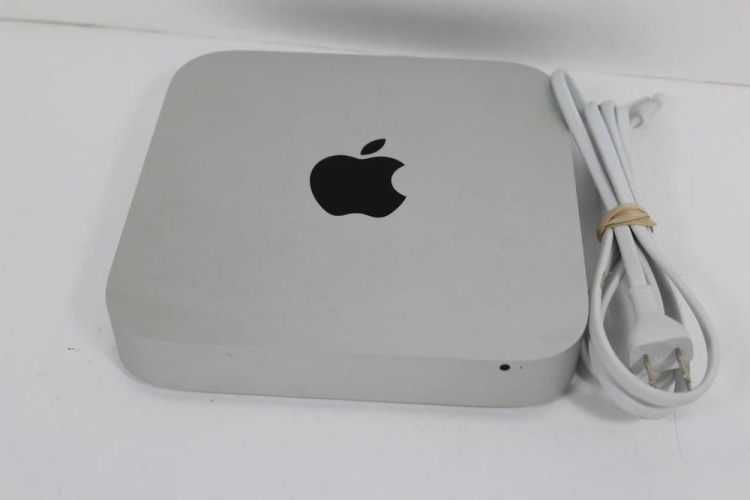apple: (307, 123, 440, 232)
